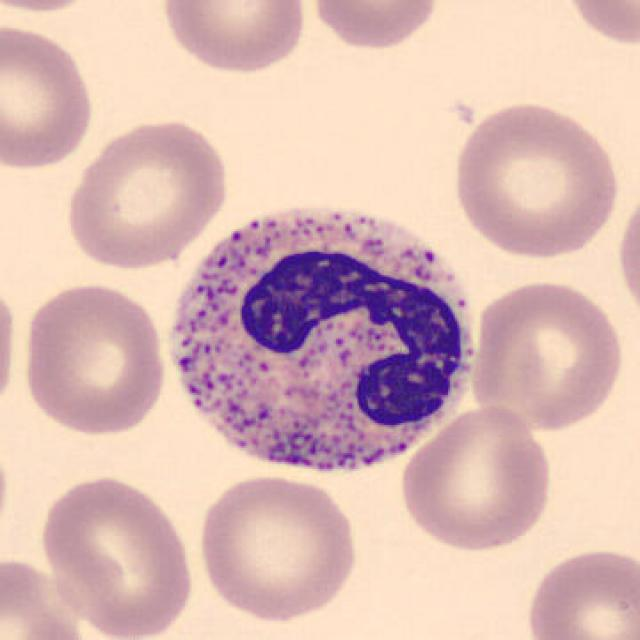Neutrophil: (157, 192, 490, 496)
RBC: (446, 97, 624, 261), (36, 471, 199, 638), (60, 115, 233, 272), (192, 471, 363, 624), (466, 275, 628, 434), (396, 402, 556, 555), (18, 277, 170, 437), (0, 19, 98, 174), (157, 0, 311, 78), (521, 543, 638, 640), (0, 553, 90, 640), (304, 0, 444, 53), (611, 176, 640, 327), (556, 0, 639, 49), (0, 271, 23, 425), (0, 0, 108, 16), (0, 425, 12, 561)
